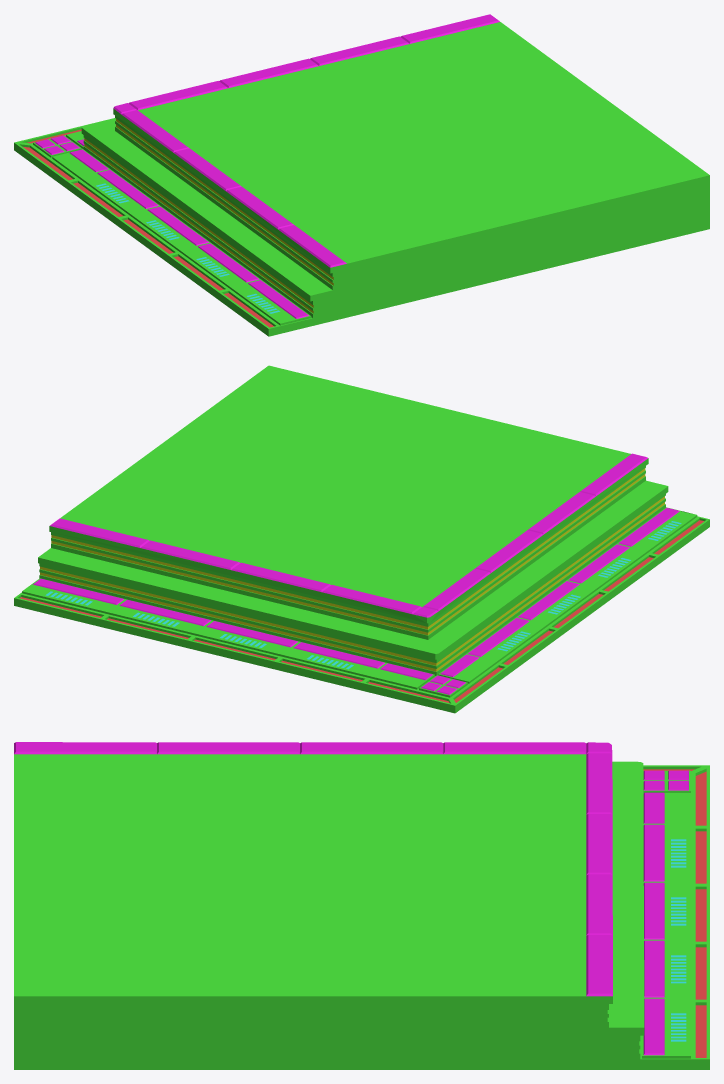
File: Floor_10_Corner.fbx
3 renders of one model, top to bottom at view 1: azimuth 30°, elevation 25°; view 2: azimuth 150°, elevation 25°; view 3: azimuth 270°, elevation 25°, orthographic. The views are drawn at different scales.
Visible parts, largest first — view 1: Floor_10_Corner; view 2: Floor_10_Corner; view 3: Floor_10_Corner.
Part boxes in pixels (left/top/right/bottom): Floor_10_Corner: left=14, top=14, right=709, bottom=336; Floor_10_Corner: left=14, top=365, right=709, bottom=713; Floor_10_Corner: left=14, top=742, right=709, bottom=1069.
Size of what is drawn, in the model's own units: 457 by 54.62 by 457.
